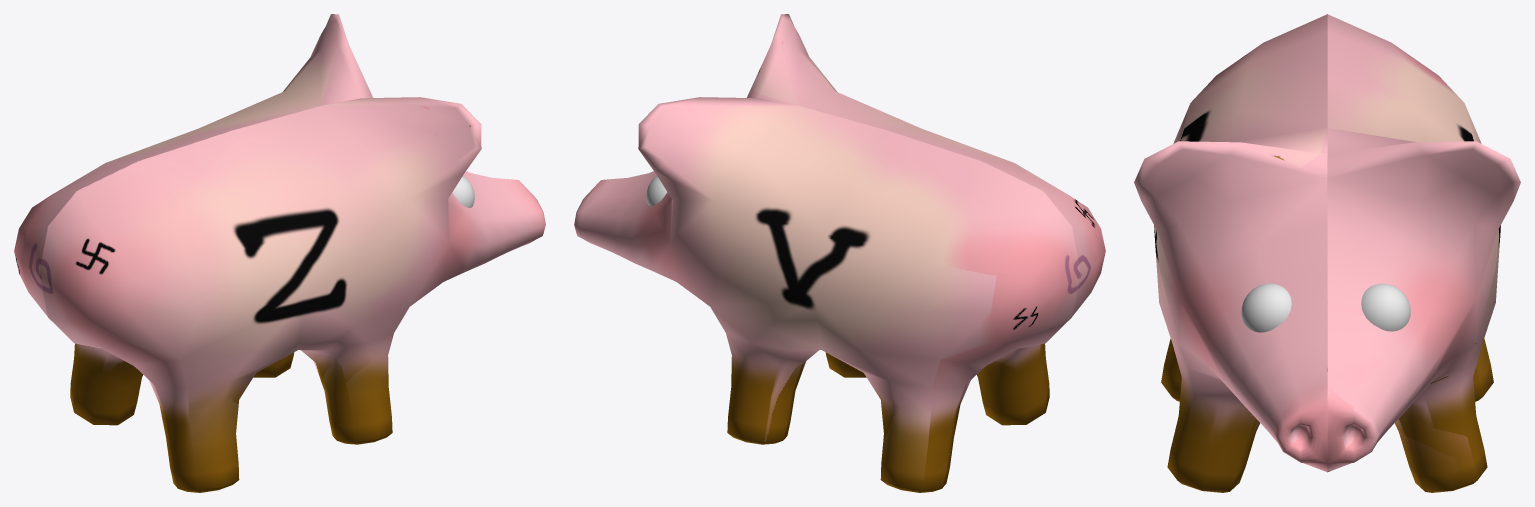
Rendered from pig.glb.
3 renders of one model, left to right at view 1: azimuth 30°, elevation 25°; view 2: azimuth 150°, elevation 25°; view 3: azimuth 270°, elevation 25°, orthographic. The views are drawn at different scales.
Visible parts, largest first — view 1: Cube.001; view 2: Cube.001; view 3: Cube.001, Sphere, Sphere.001.
Boxes of the visible parts, left/top/right/bottom form: Cube.001: left=14, top=14, right=545, bottom=492; Cube.001: left=574, top=14, right=1105, bottom=492; Cube.001: left=1134, top=14, right=1520, bottom=492; Sphere: left=1241, top=283, right=1291, bottom=332; Sphere.001: left=1361, top=283, right=1410, bottom=331.
Size of the model in its own units: 3.81 by 2.5 by 2.15.
Materials: 1 (1 with a texture image).
